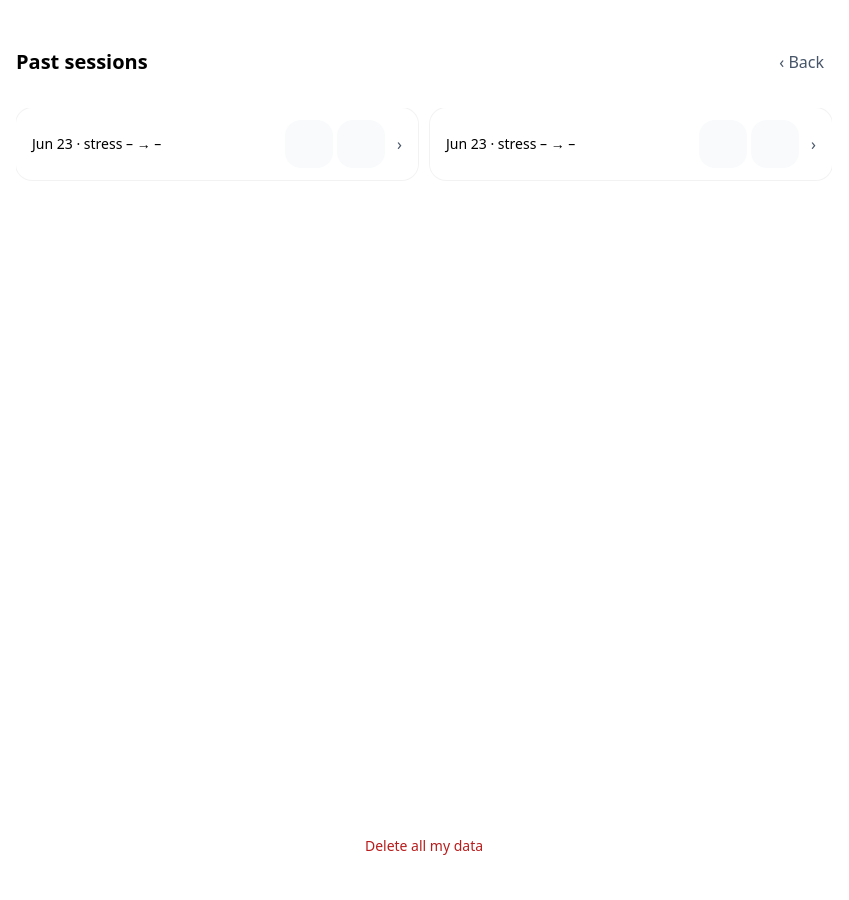
Test: ScreenRouter — the flow is walkable with stubs › History opens the tapped session in Reflection (R08-11)
Click the 2nd button "Jun 23 · stress – → – ›": [511, 144] box [430,108,832,180]
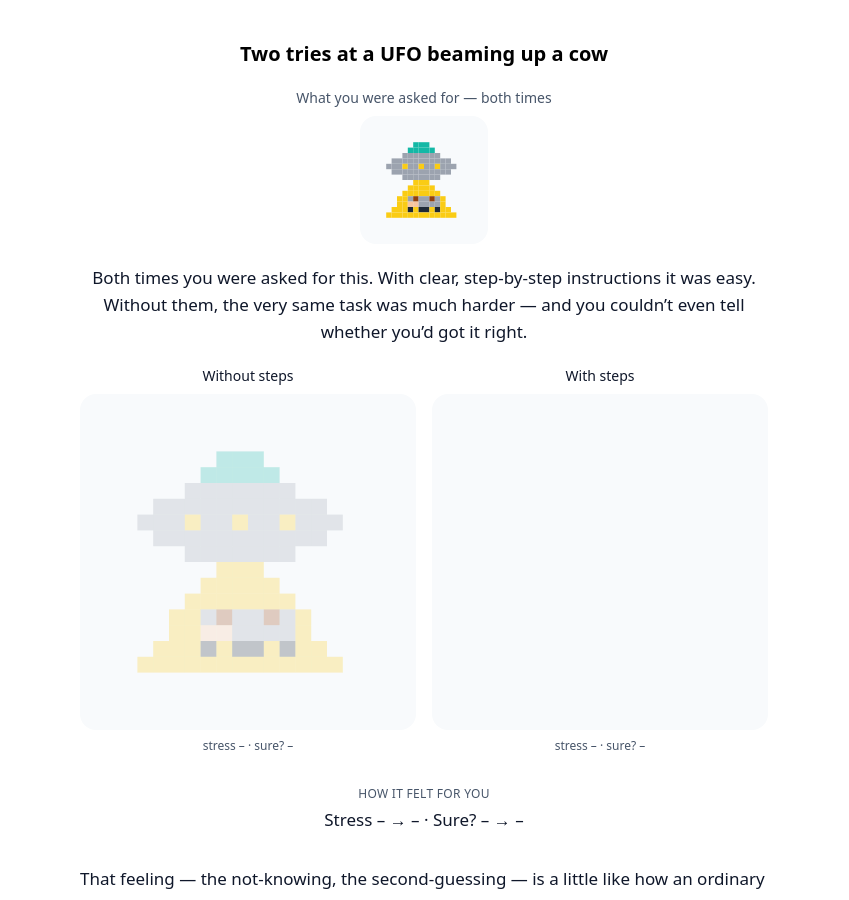
Now the element with test id "screen-reflection" is shown
